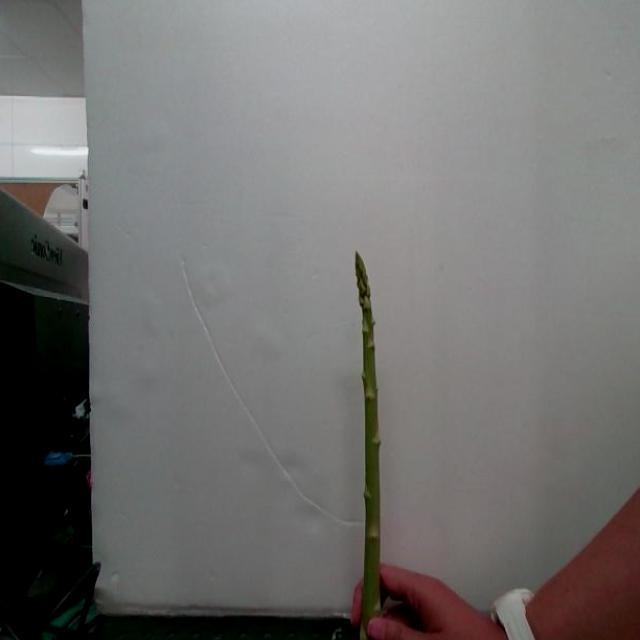aspargus: (354, 255, 384, 638)
